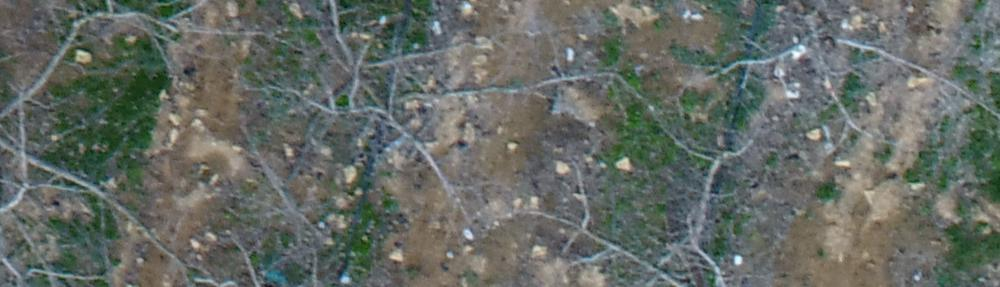apple: (206, 10, 628, 250)
